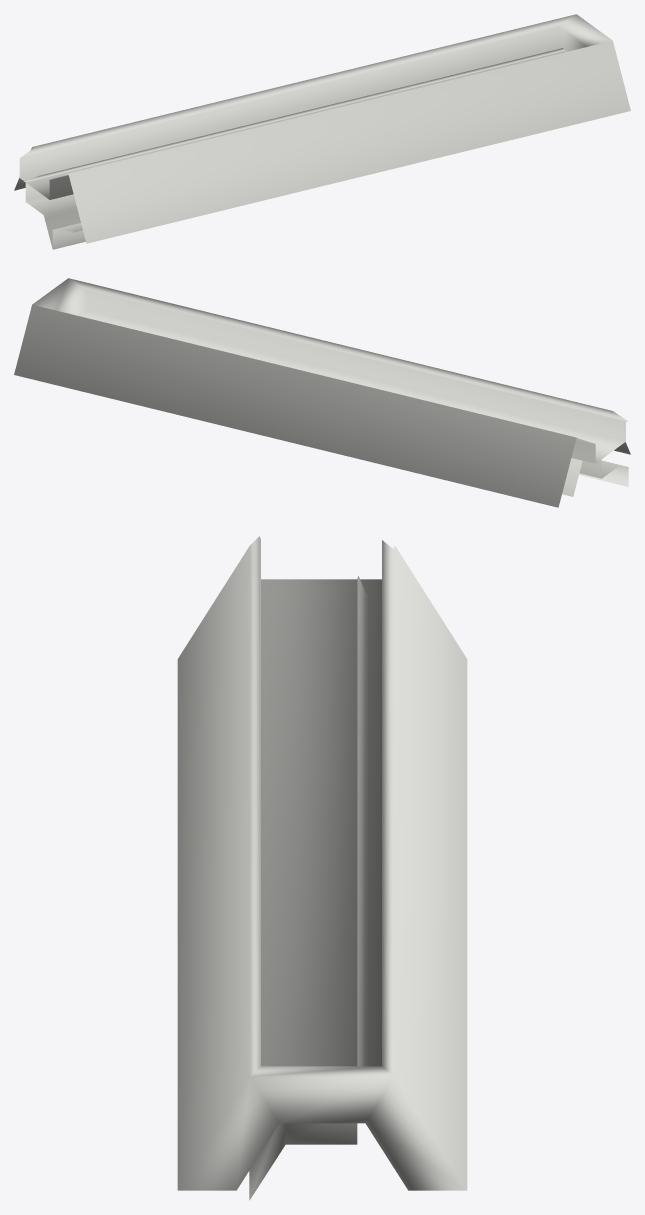
The model's file is iss-truss-s6.glb.
3 renders of one model, top to bottom at view 1: azimuth 30°, elevation 25°; view 2: azimuth 150°, elevation 25°; view 3: azimuth 270°, elevation 25°, orthographic. The views are drawn at different scales.
Visible parts, largest first — view 1: truss-s6; view 2: truss-s6; view 3: truss-s6.
Boxes of the visible parts, box(x1,y1,x2,y2) form: truss-s6: box(14, 14, 630, 249); truss-s6: box(14, 278, 630, 507); truss-s6: box(177, 536, 467, 1200).
Size of the model in its own units: 13.25 by 1.63 by 2.95.
Materials: 1 (1 with a texture image).
